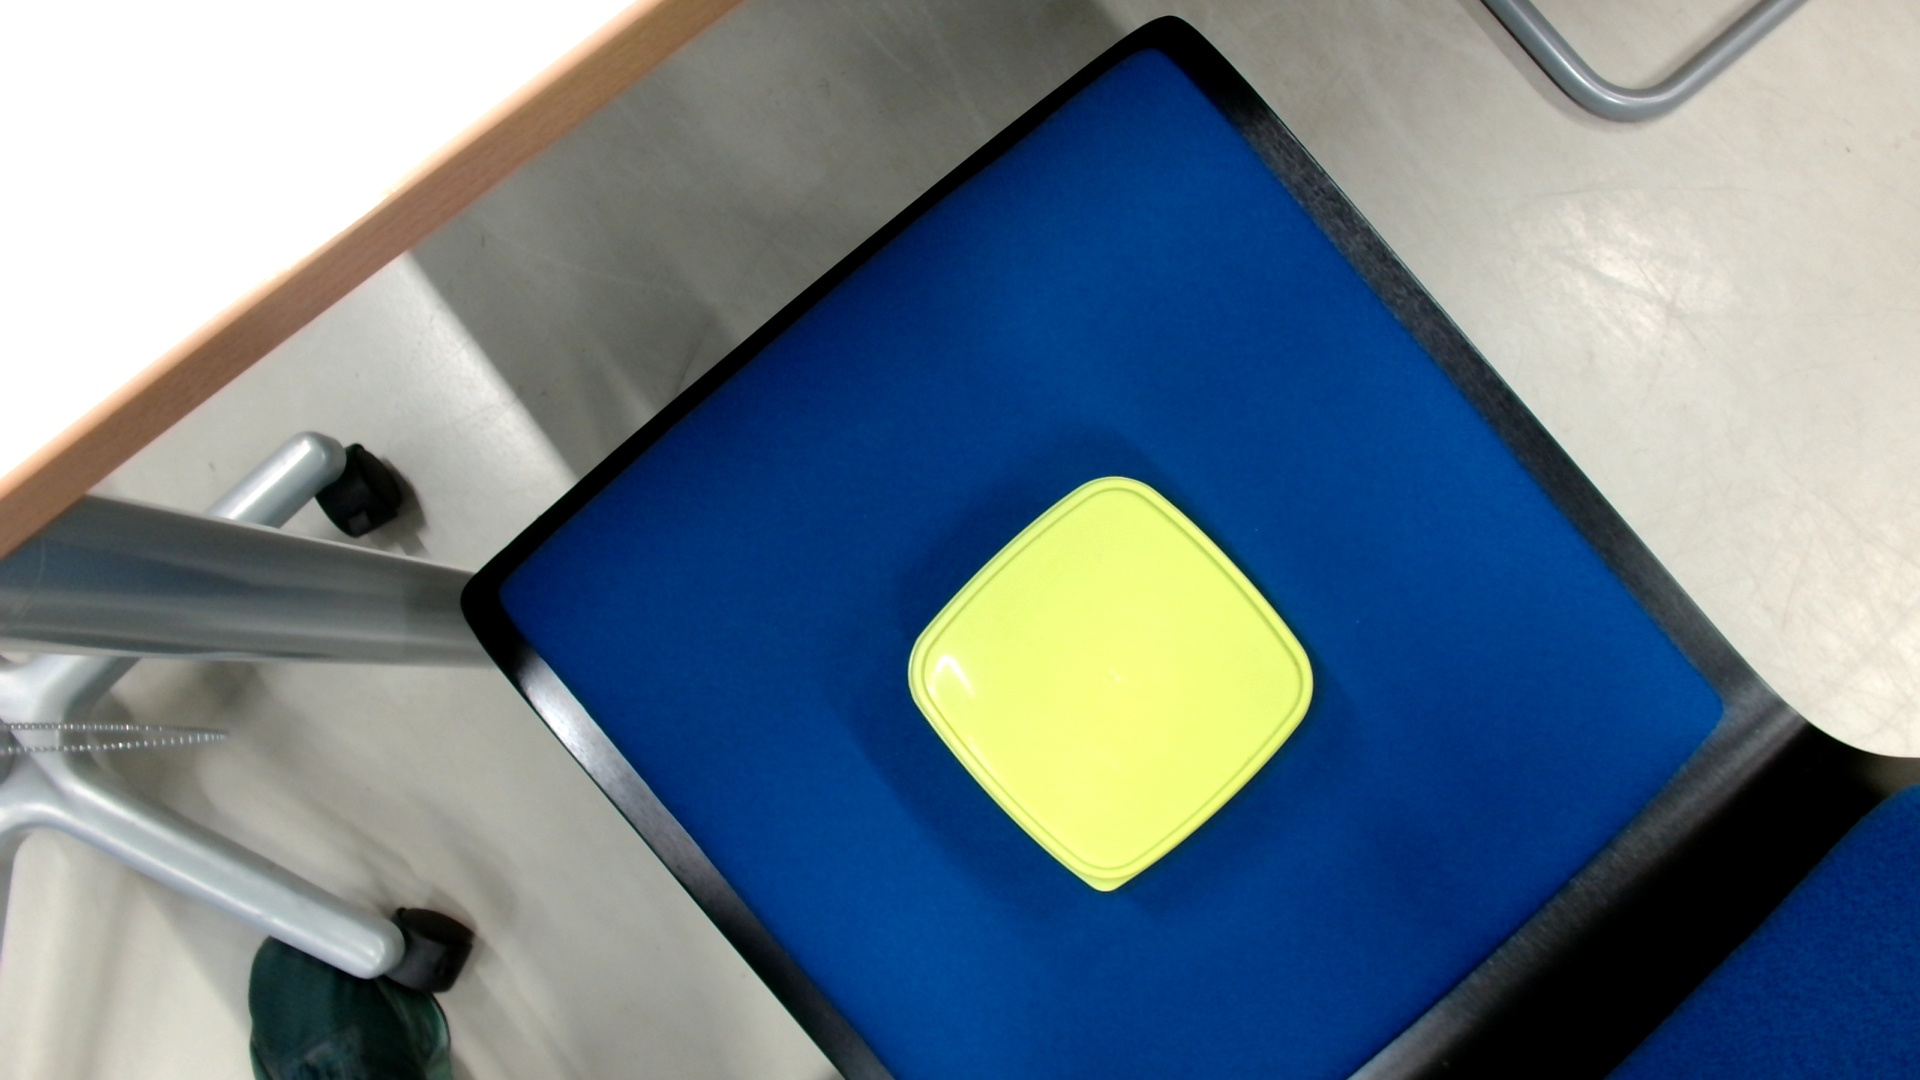Box: (902, 469, 1323, 905)
